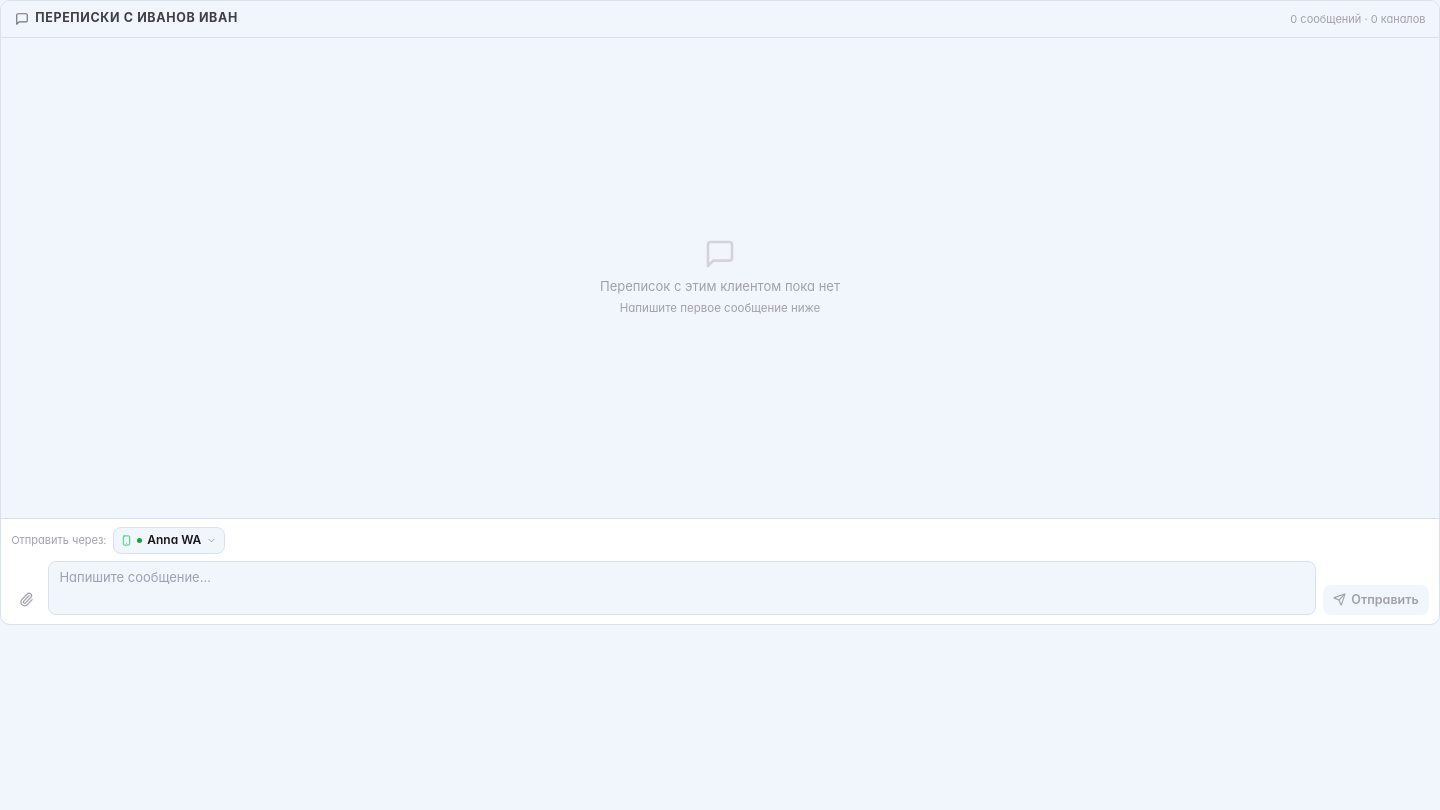
Test: LeadChatPanel — ChannelSelect › клик на кнопку → открывает dropdown
Click the button with test id "channel-select-btn" at (169, 540), box [113,527,225,554]
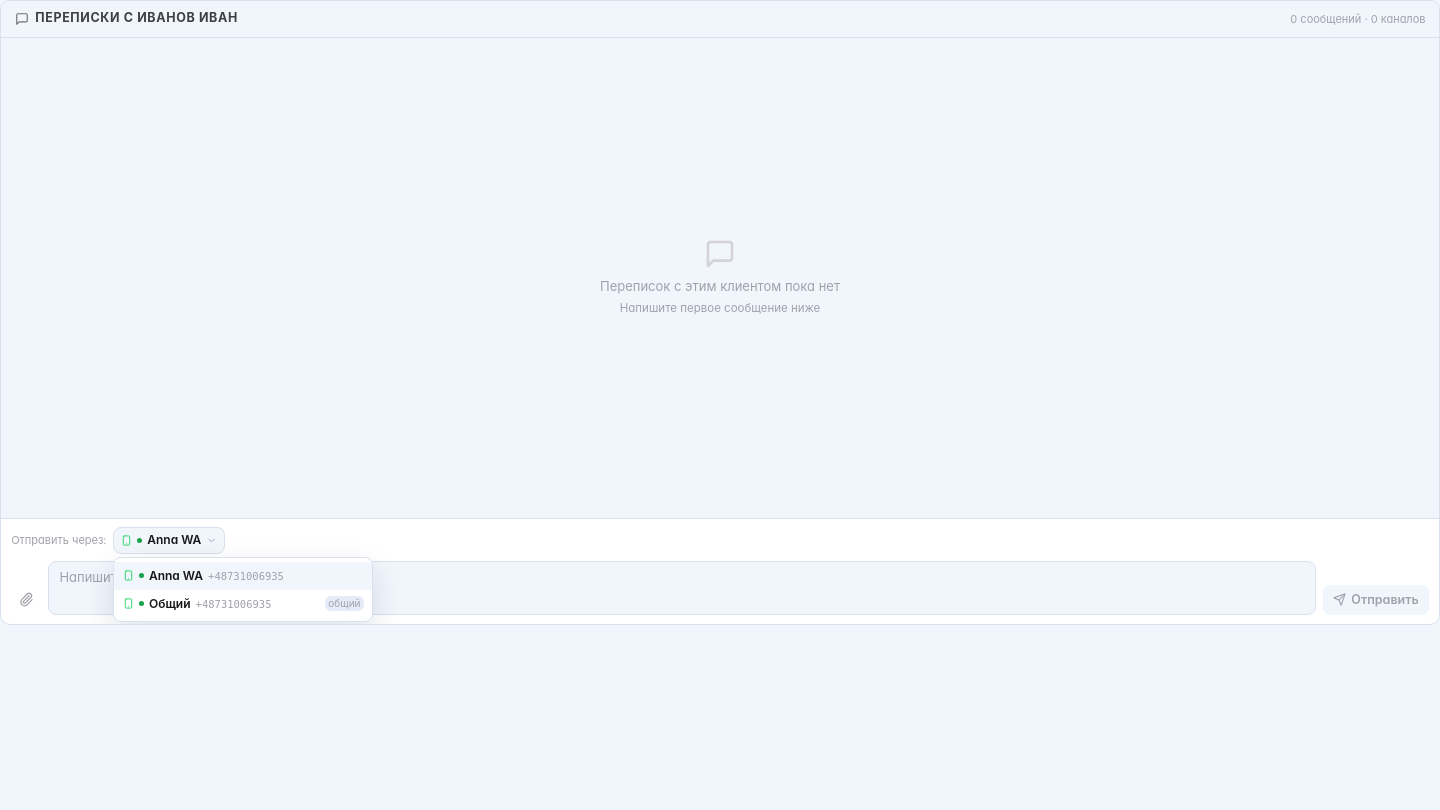
Now the element with test id "channel-dropdown" is shown, box [113,557,373,622]
